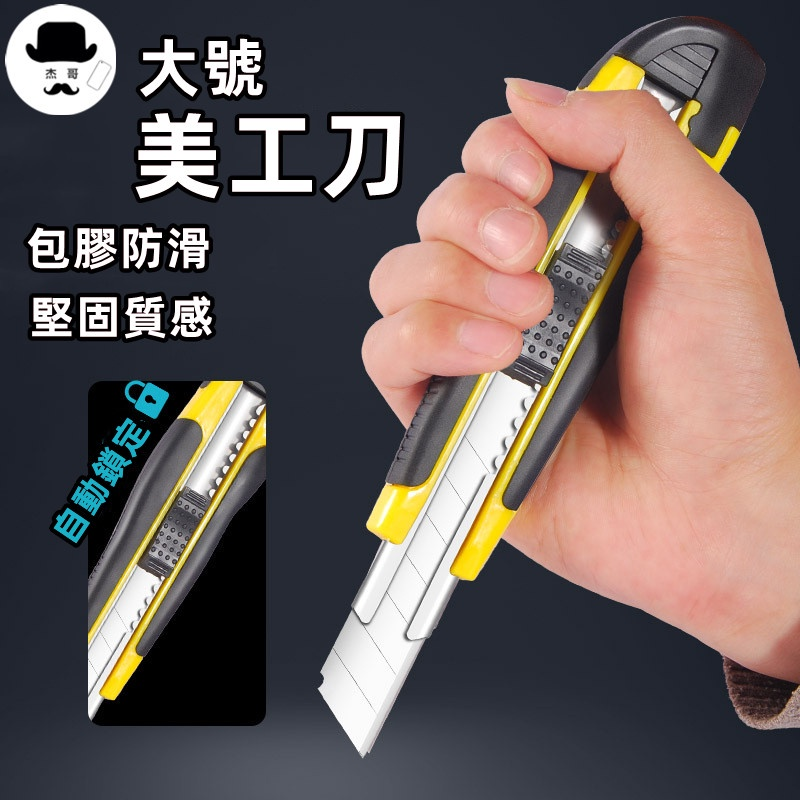cutter: (314, 15, 770, 760), (88, 382, 265, 718)
